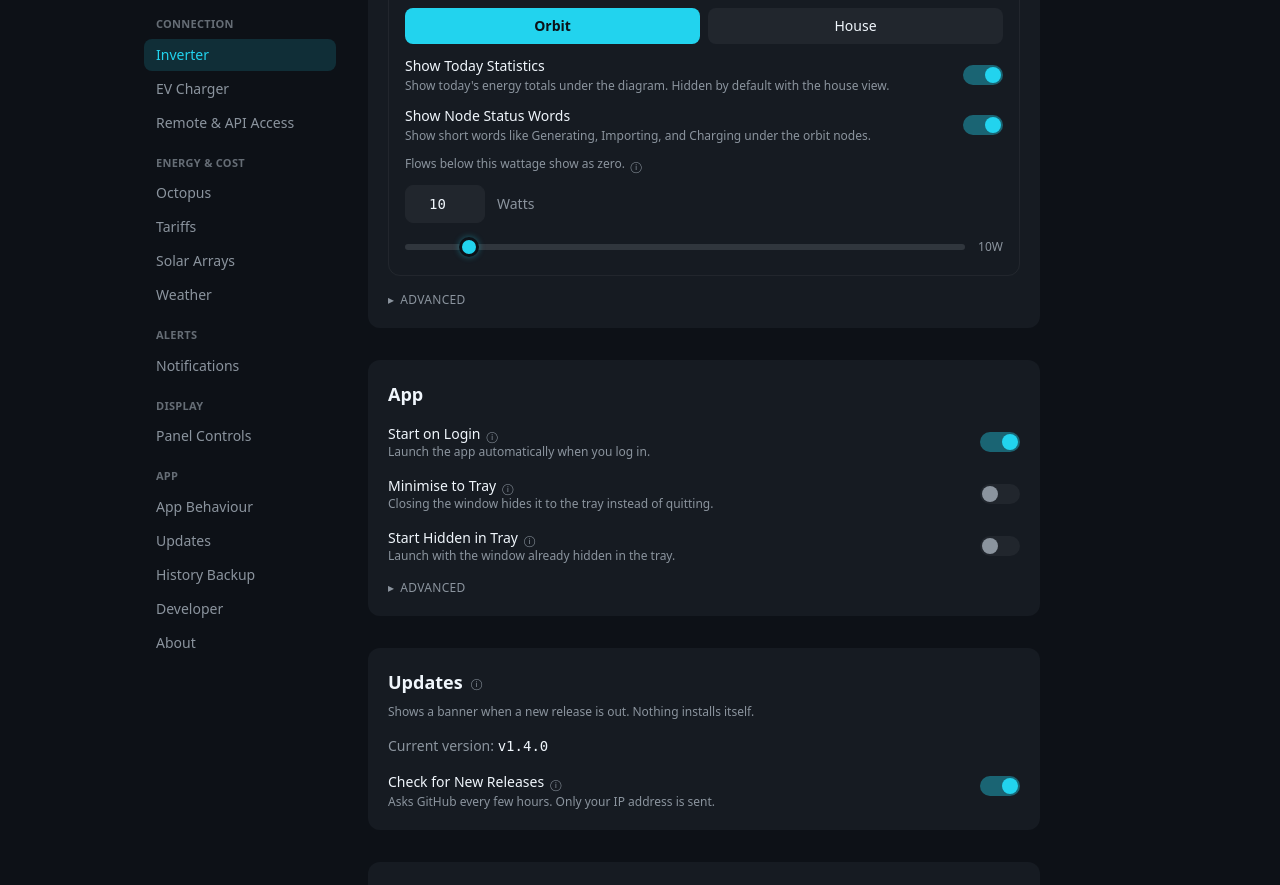
Test: <SettingsPage/> — Start on Login (Tauri shell) › removes the entry when switched off
(page scrolled)
Check: the text "Start on Login" is shown, box [388,424,480,443]
Click the switch named "Start on Login".
click(1000, 442)  # box [980,432,1020,452]
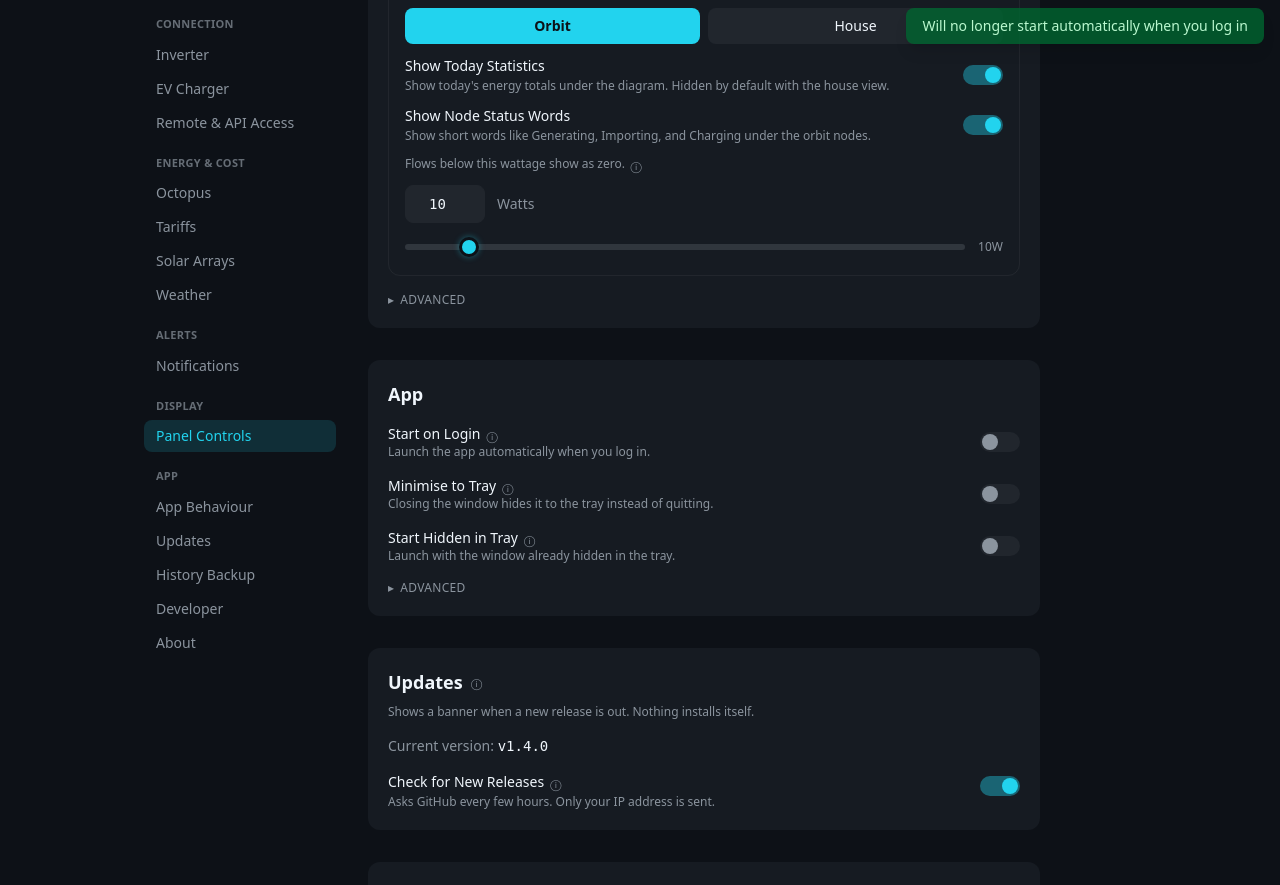
Check: the text "Will no longer start automatically when you log in" is shown, box [906,8,1264,44]
